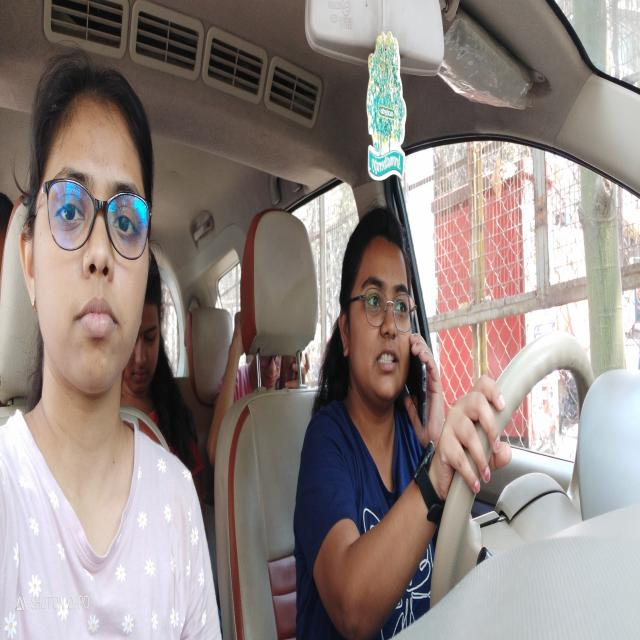mobile: (408, 326, 437, 444)
person: (18, 53, 157, 424), (334, 194, 444, 448), (141, 250, 178, 404)
